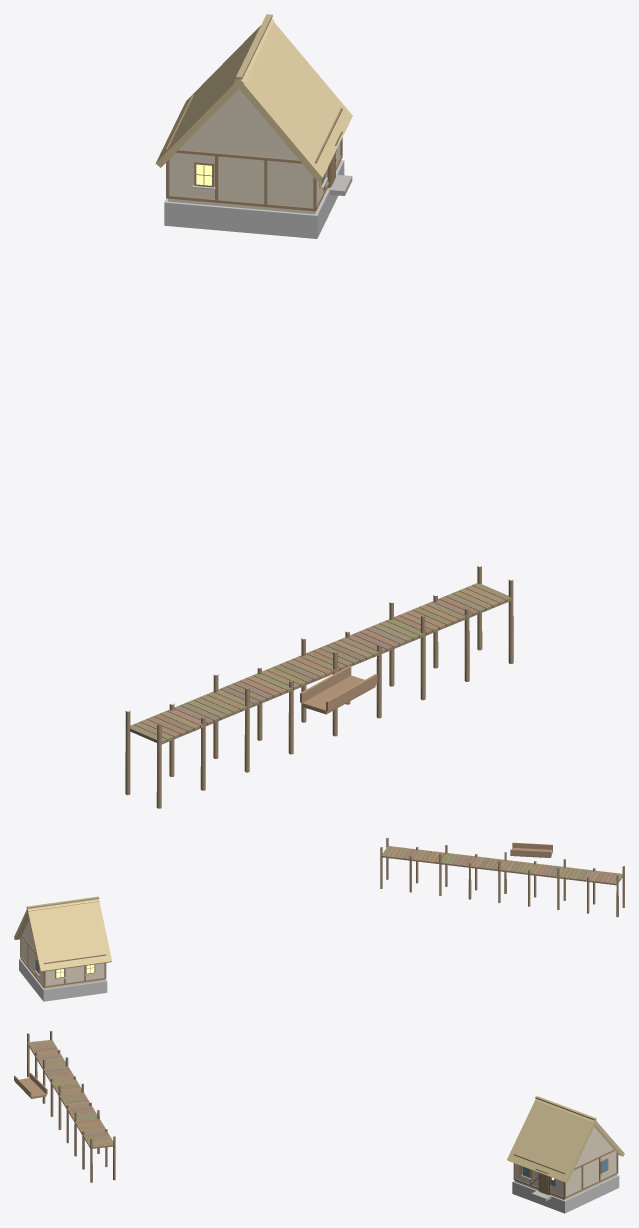
Rendered from struct_5_11.glb.
3 renders of one model, top to bottom at view 1: azimuth 30°, elevation 25°; view 2: azimuth 150°, elevation 25°; view 3: azimuth 270°, elevation 25°, orthographic. The views are drawn at different scales.
Visible parts, largest first — view 1: HousesNear, Landmarks; view 2: HousesNear, Landmarks; view 3: HousesNear, Landmarks.
Part boxes in pixels (left/top/right/bottom): HousesNear: left=155, top=14, right=352, bottom=238; Landmarks: left=125, top=566, right=513, bottom=808; HousesNear: left=14, top=896, right=111, bottom=1001; Landmarks: left=380, top=838, right=624, bottom=917; HousesNear: left=507, top=1096, right=624, bottom=1213; Landmarks: left=14, top=1031, right=115, bottom=1182.
Bounding box in the file's own units: 40.53 × 12.84 × 57.02.
